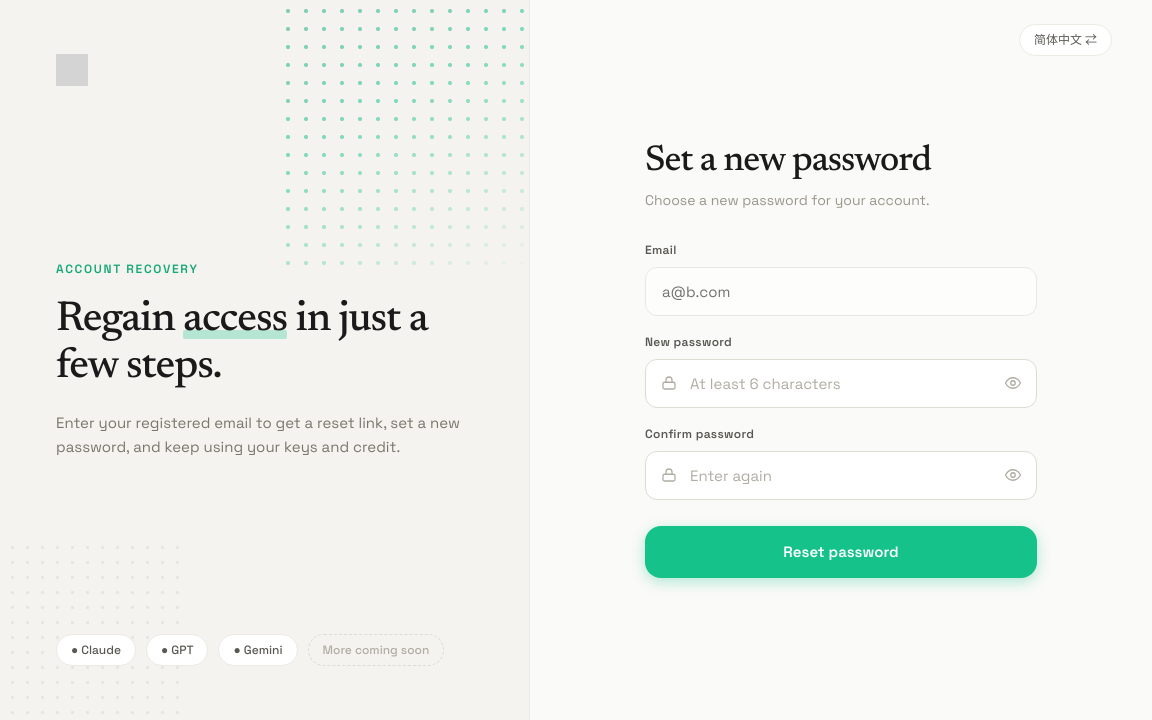
Scenario: ResetPasswordView › 其它失败：内联展示后端 message
In the password field with id "reset-password": (841, 383) [645,359,1037,408], type "123456"
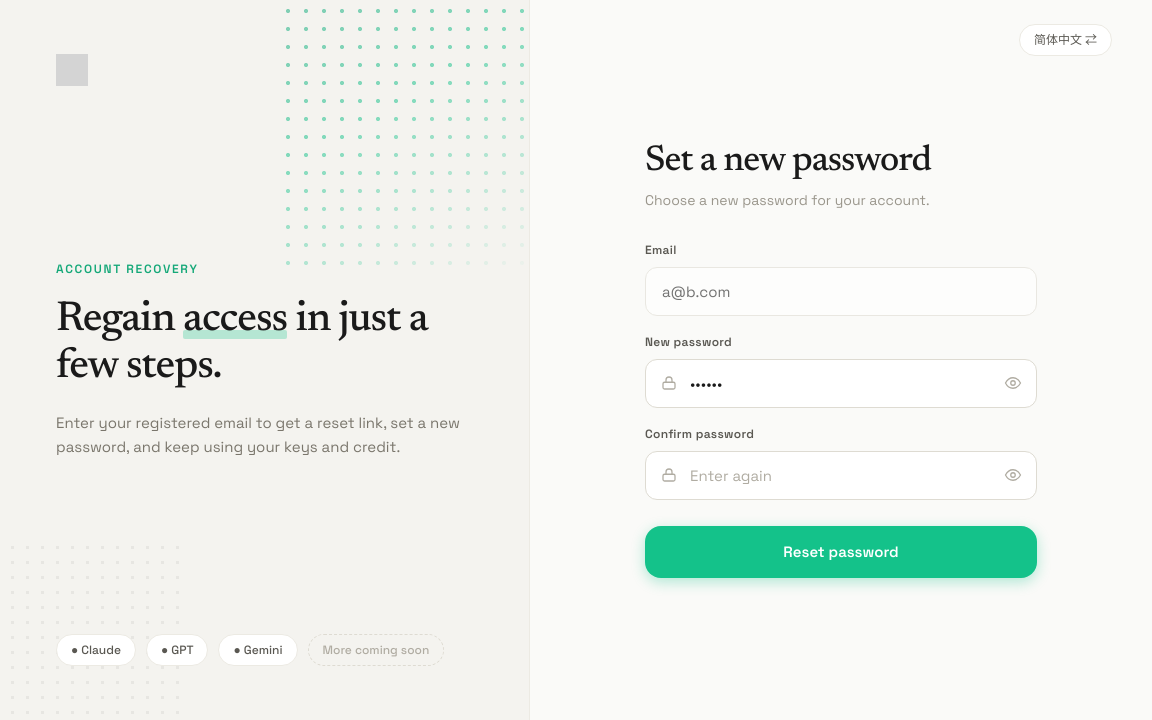
In the password field with id "reset-confirm": (841, 475) [645,451,1037,500], type "123456"
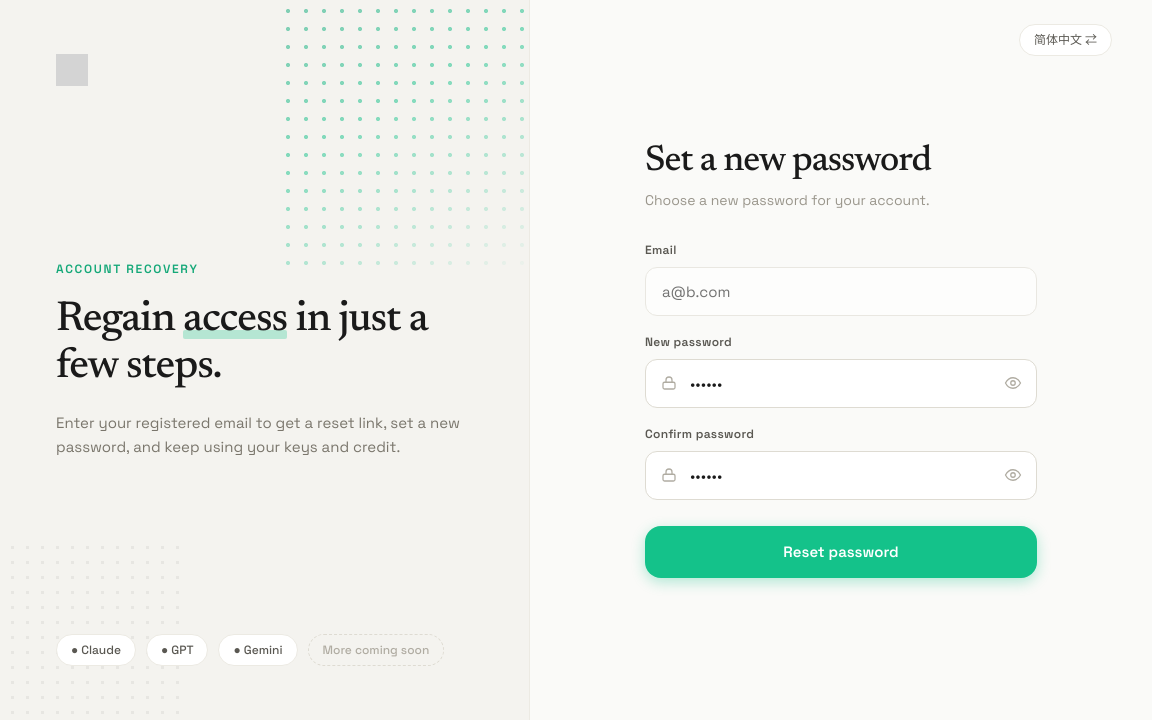
Submit the form, box [645,242,1037,578]
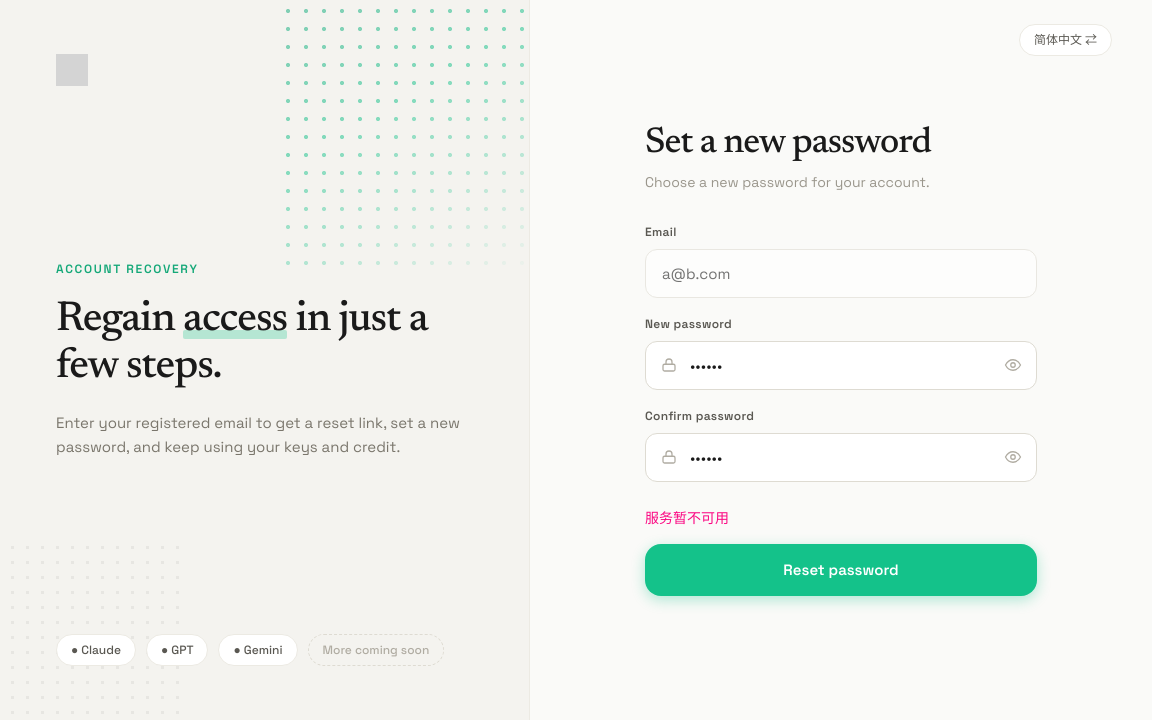
Expected: the text "服务暂不可用" is shown, [645,509,729,527]
